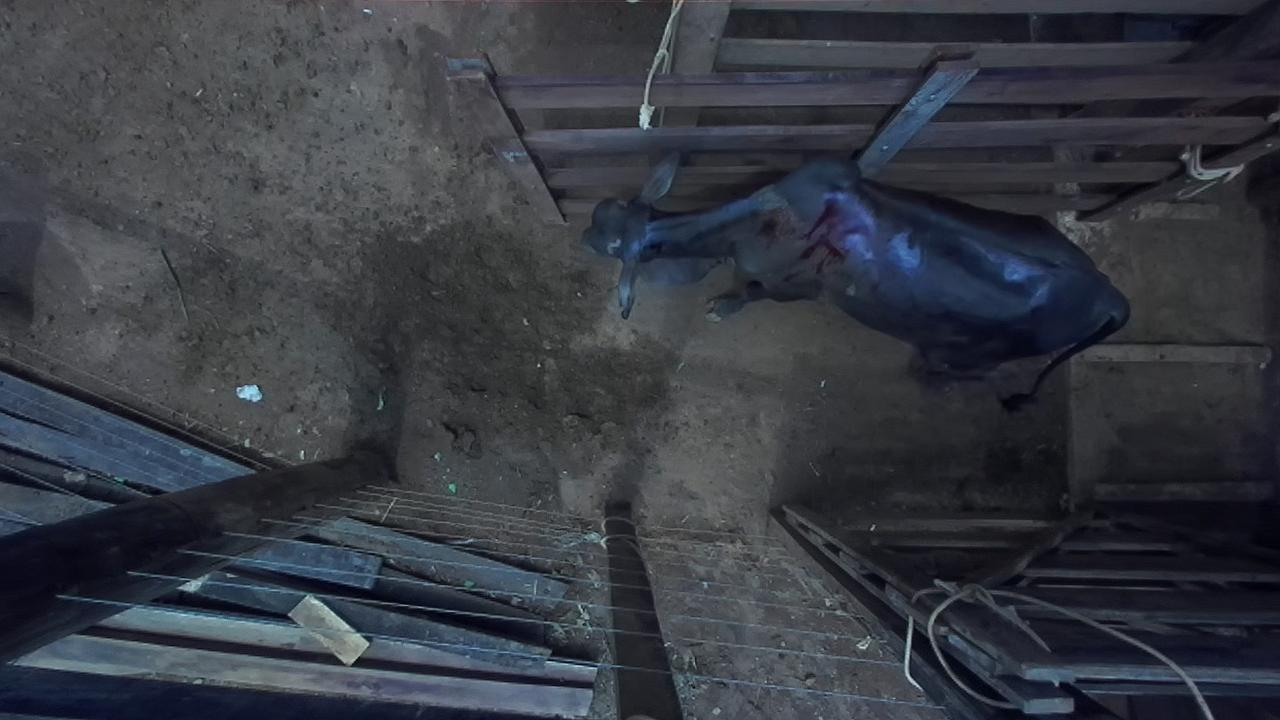cattle: (580, 151, 1131, 411)
